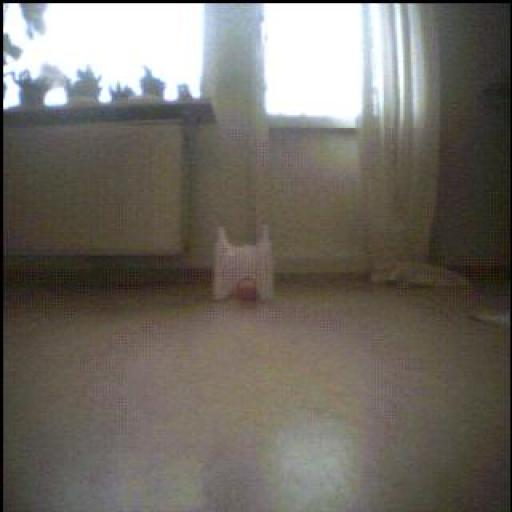Basket: (236, 274, 264, 308)
